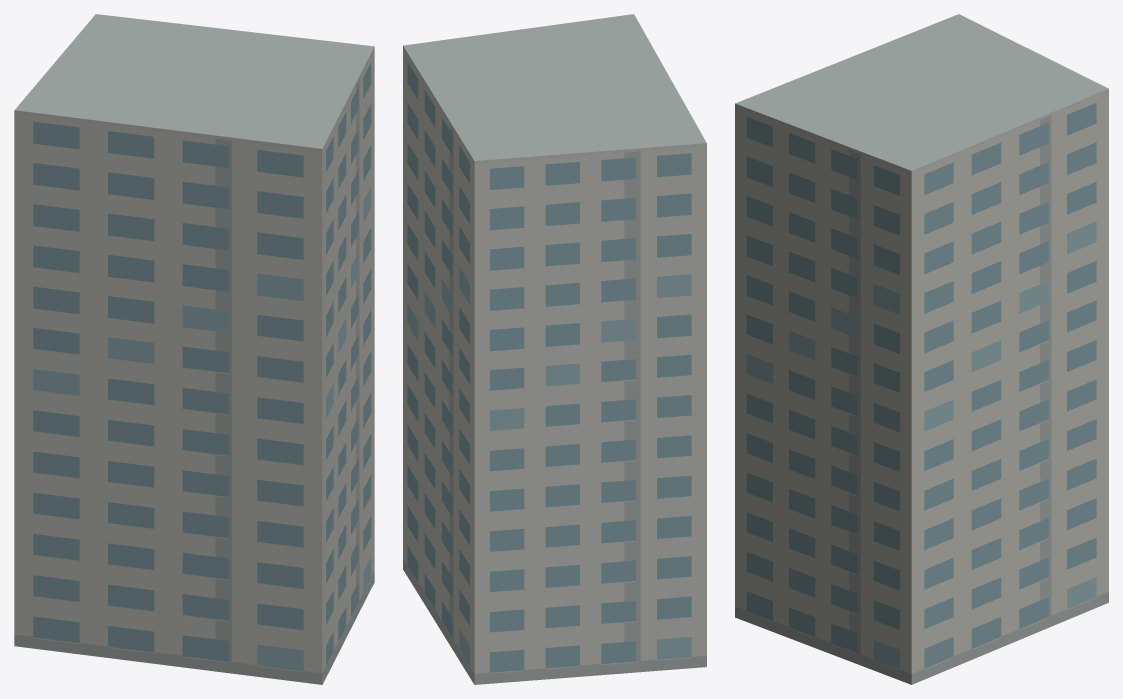
File: residential-bc67d2e8-7df2-4089-8be9-61374ee9357f.glb
3 views of the same model, side by side, from view 1: azimuth 30°, elevation 25°; view 2: azimuth 150°, elevation 25°; view 3: azimuth 270°, elevation 25° (orthographic). The views are drawn at different scales.
Visible parts, largest first — view 1: residential-bc67d2e8-7df2-4089-8be9-61374ee9357f.tmp; view 2: residential-bc67d2e8-7df2-4089-8be9-61374ee9357f.tmp; view 3: residential-bc67d2e8-7df2-4089-8be9-61374ee9357f.tmp.
Boxes of the visible parts, x1,y1,x2,y2 form: residential-bc67d2e8-7df2-4089-8be9-61374ee9357f.tmp: (14, 14, 374, 684); residential-bc67d2e8-7df2-4089-8be9-61374ee9357f.tmp: (403, 14, 706, 684); residential-bc67d2e8-7df2-4089-8be9-61374ee9357f.tmp: (735, 14, 1108, 684).
Size of the model in its own units: 27.51 by 42 by 27.69.
